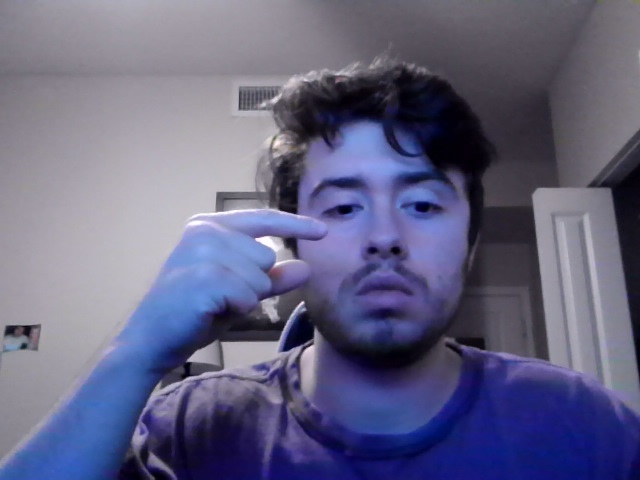g: (118, 207, 330, 379)
